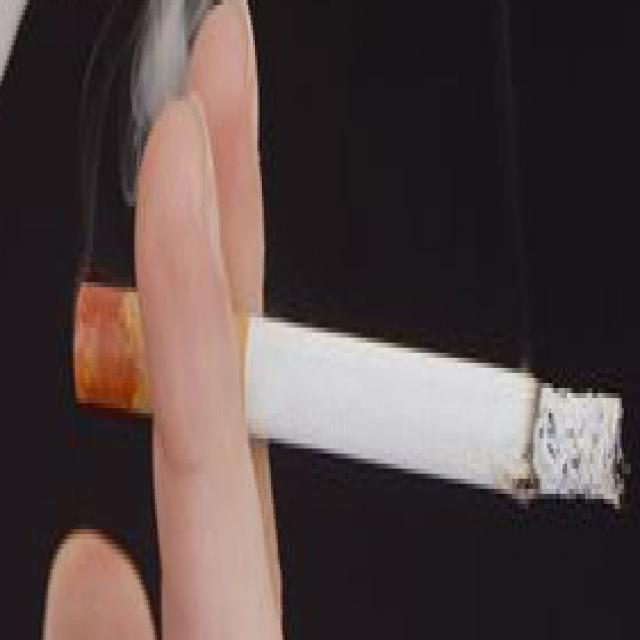smoking: (74, 280, 624, 508)
